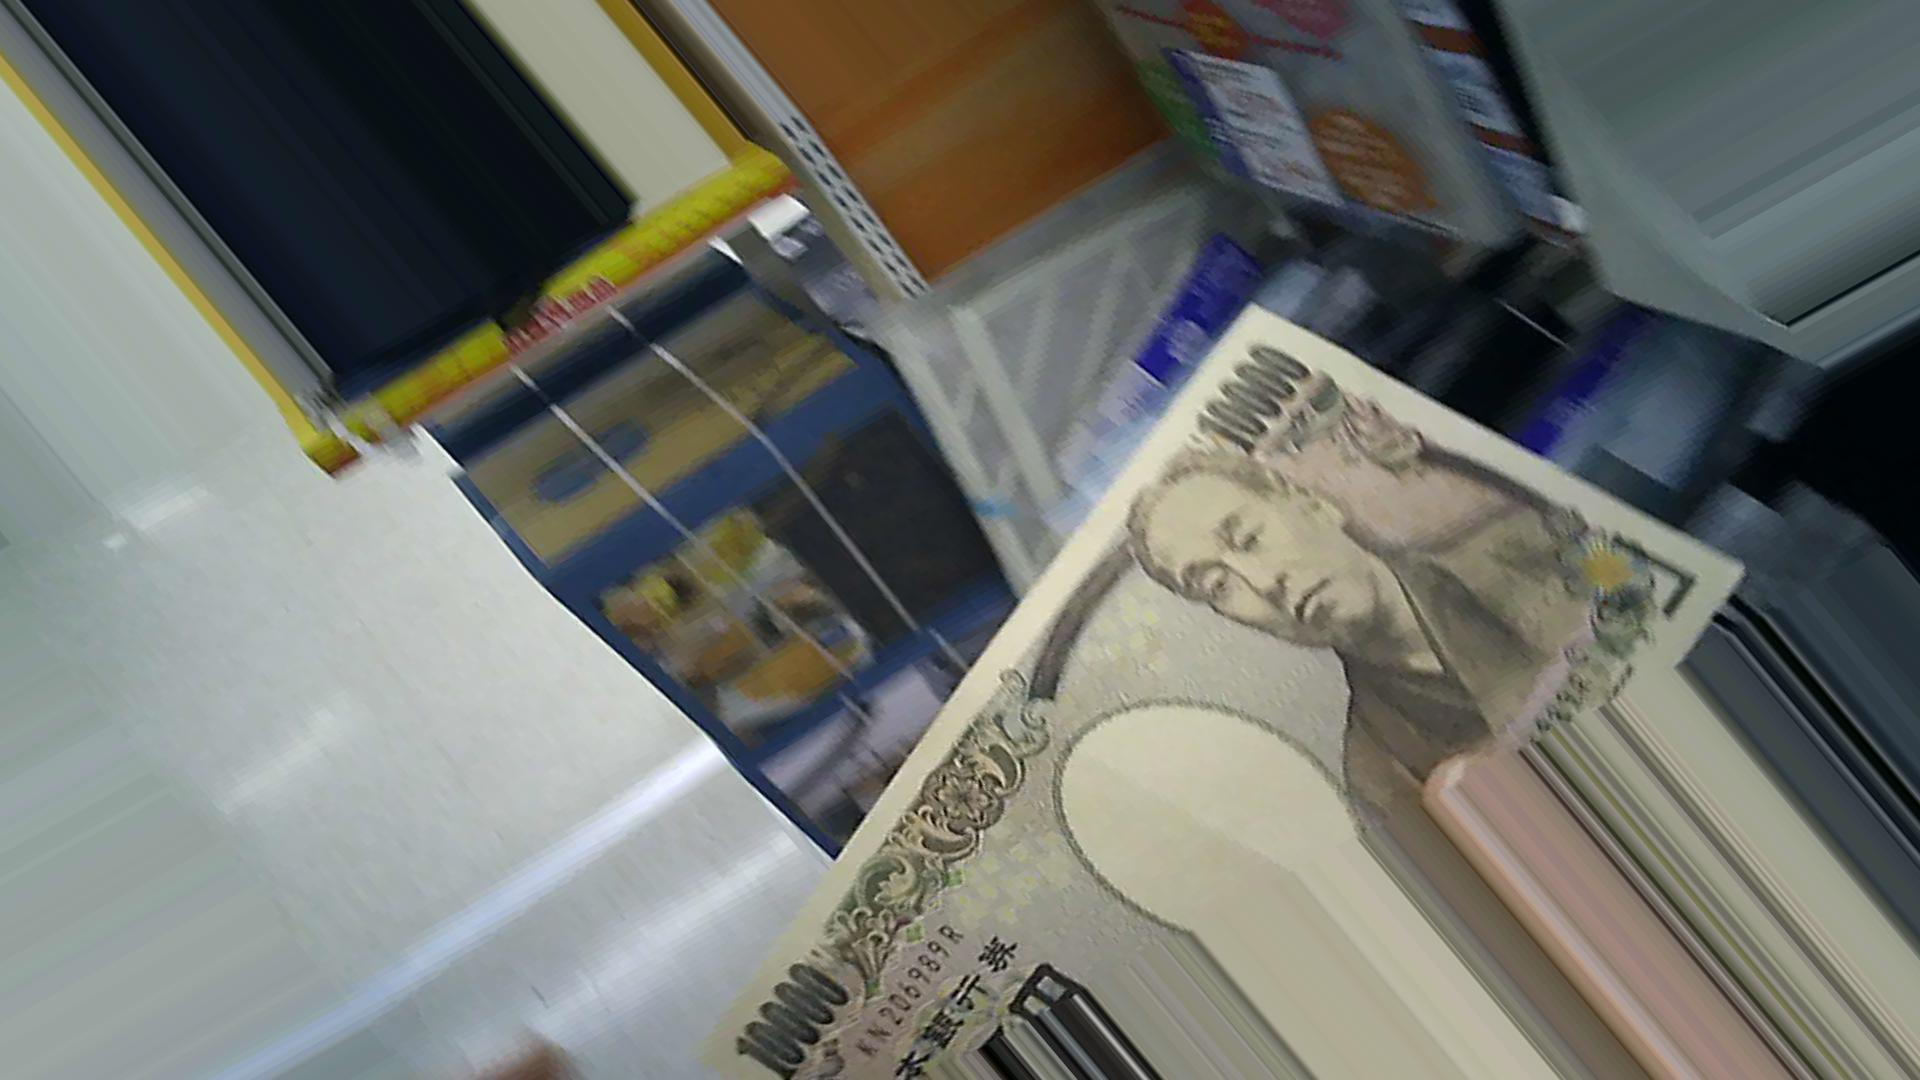10,000 Yen: (713, 258, 1673, 1076)
